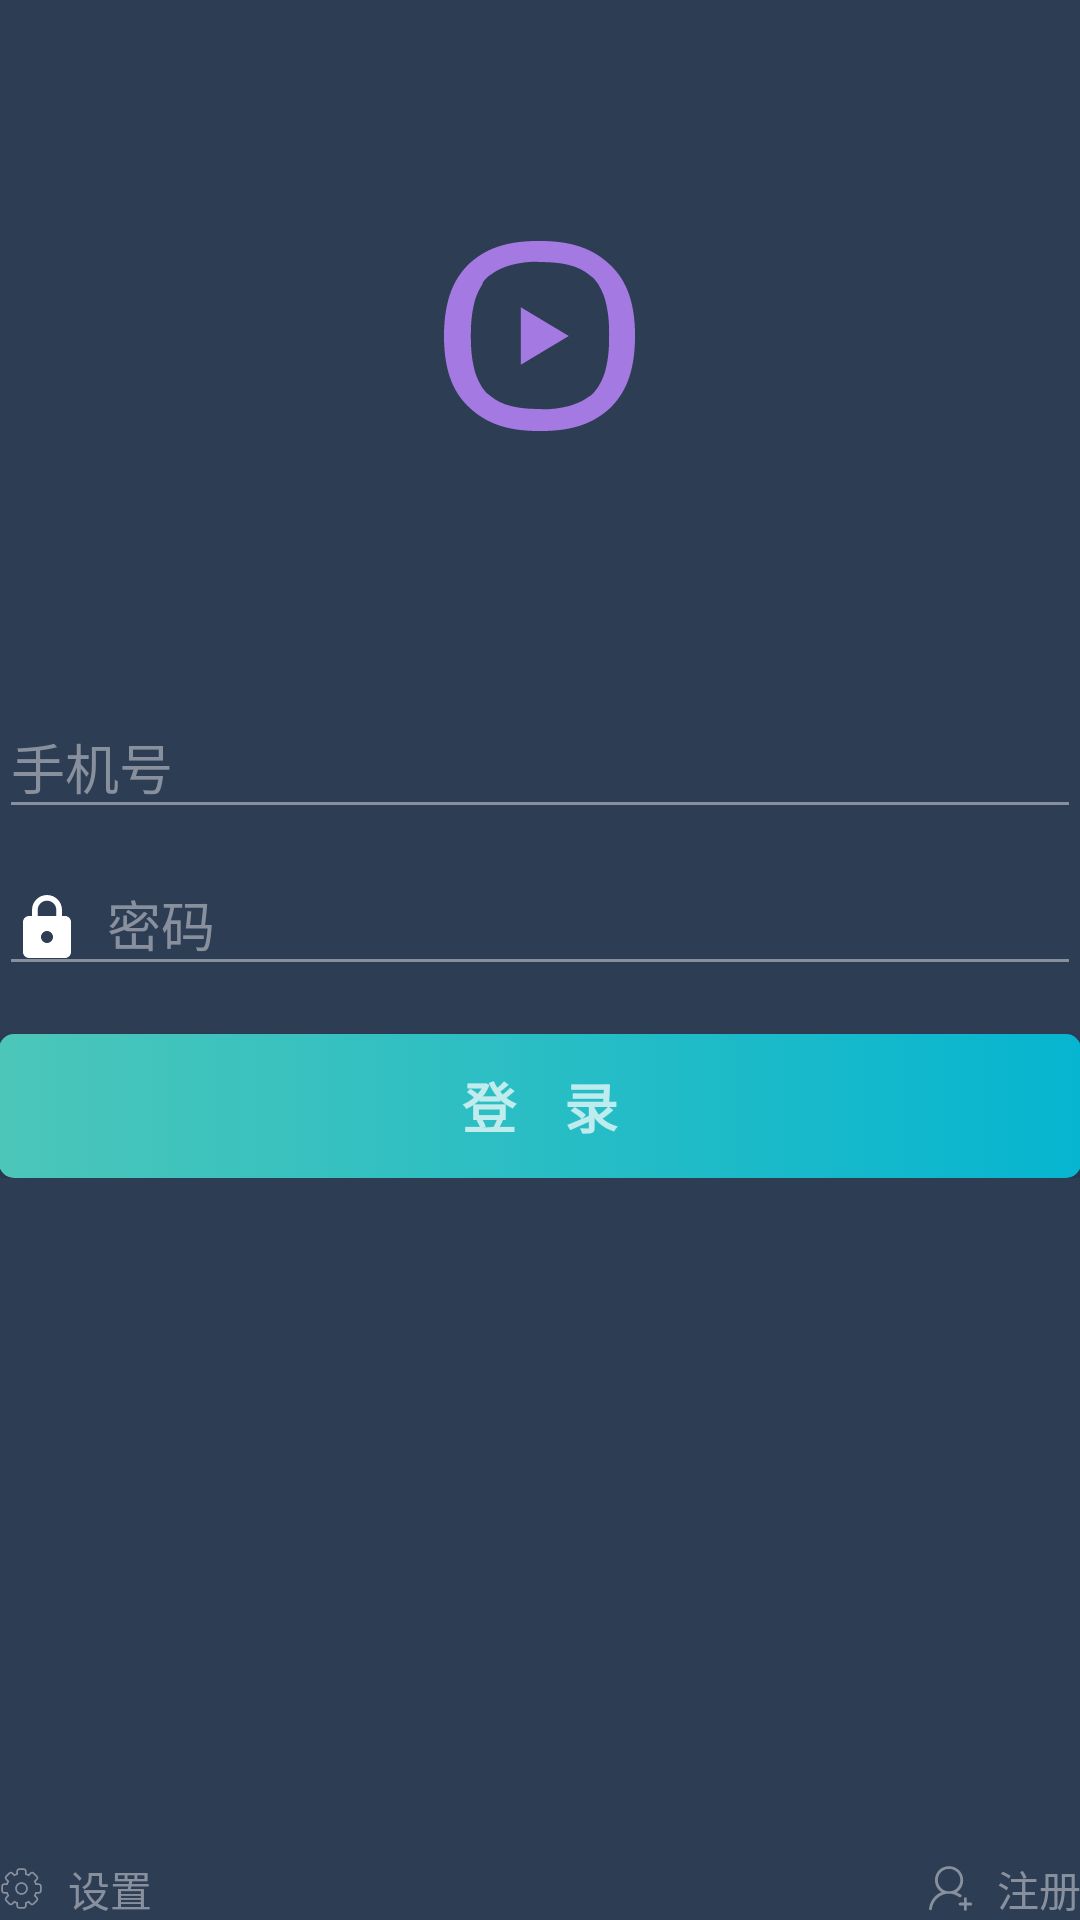

Icons on this 1080 × 1920 Android screen, each with the point to tap as (x,y):
video: (539,336)
